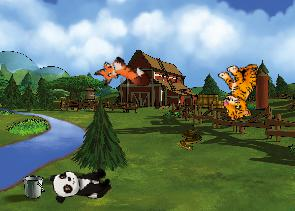fox: (91, 48, 153, 105)
panda: (49, 164, 113, 204)
tiger: (212, 58, 270, 122)
